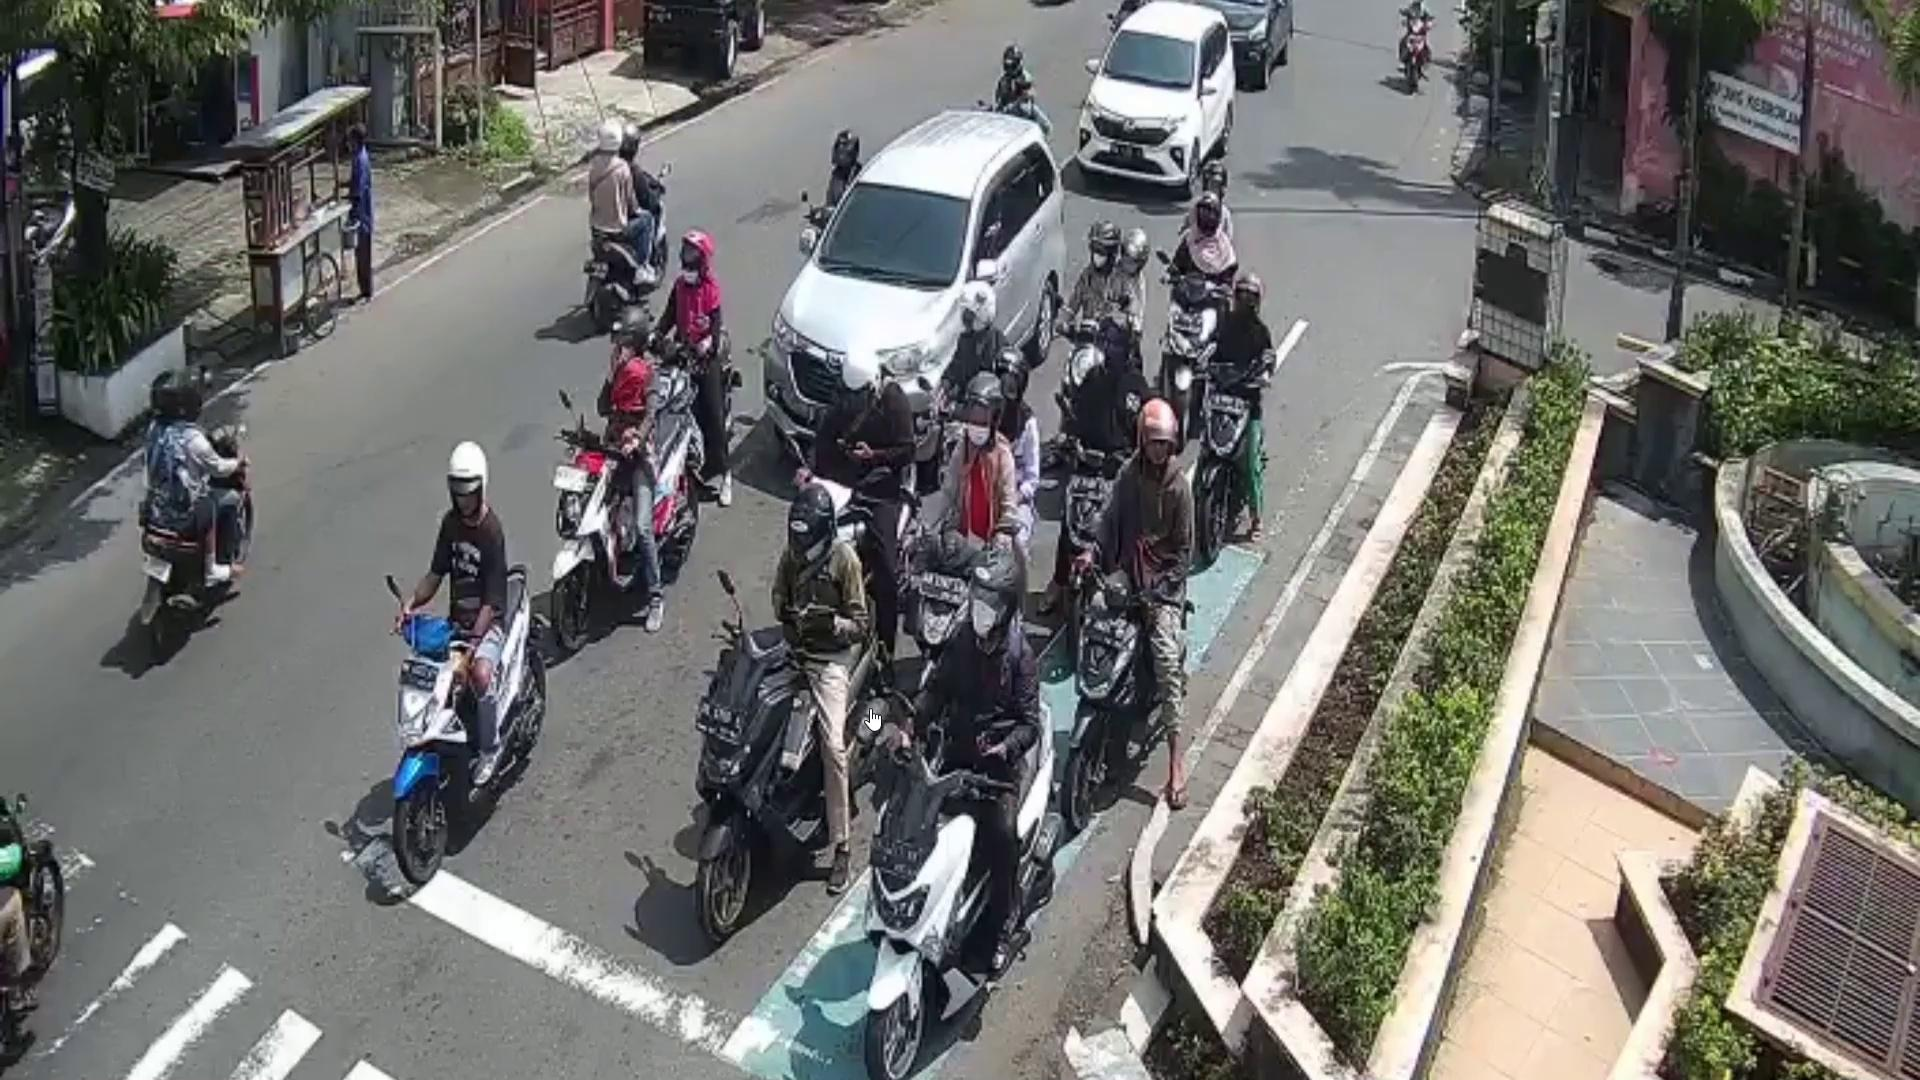car: (766, 107, 1068, 460), (1073, 1, 1236, 198), (1195, 0, 1299, 88)
motorbike: (868, 694, 1060, 1080), (699, 607, 885, 943), (389, 560, 546, 890), (545, 405, 692, 650), (1077, 579, 1195, 825), (144, 429, 253, 655), (1191, 359, 1254, 562), (580, 178, 667, 316)
